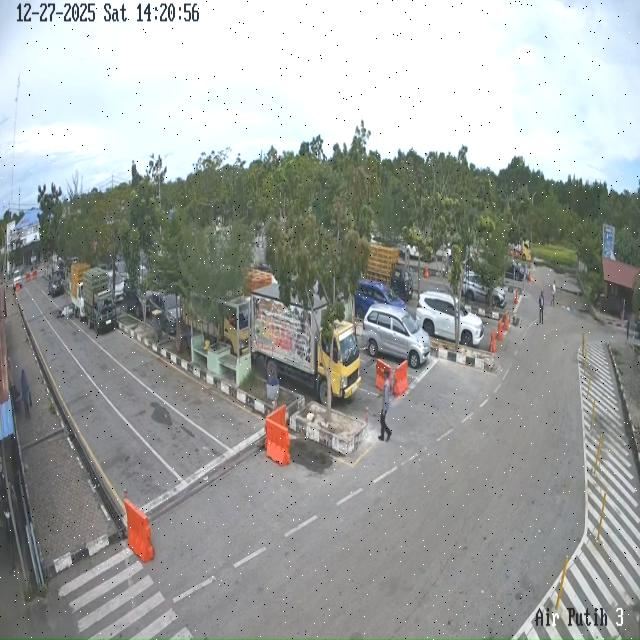Golongan IVA: (362, 304, 430, 369), (416, 291, 484, 347), (354, 279, 406, 320), (462, 271, 506, 308), (148, 292, 178, 336), (48, 271, 64, 297)
Golongan IVB: (83, 267, 117, 333), (69, 262, 90, 321)
Golongan VB: (250, 283, 361, 405)
